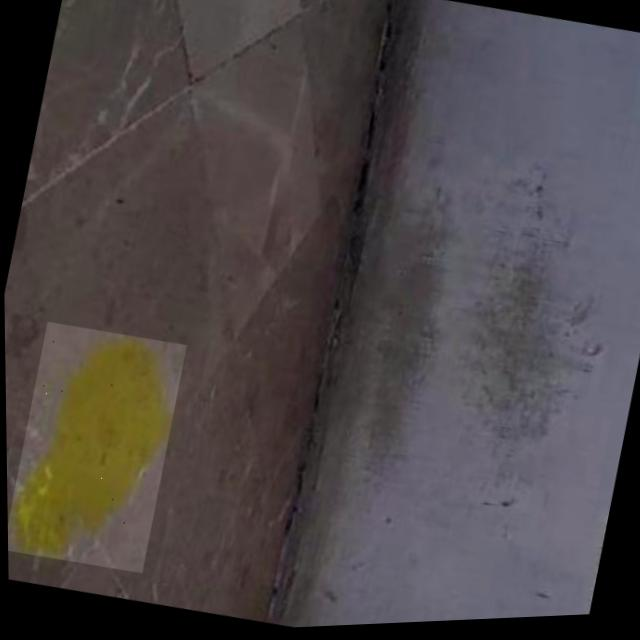spillage: (6, 334, 169, 559)
